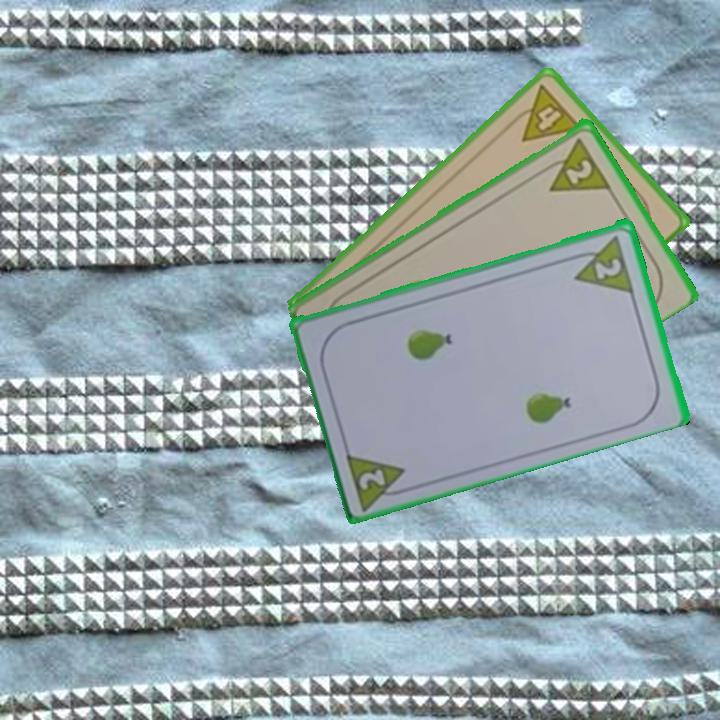2p: (342, 447, 416, 511), (562, 155, 596, 187), (591, 253, 625, 282)
4p: (504, 80, 585, 145)
